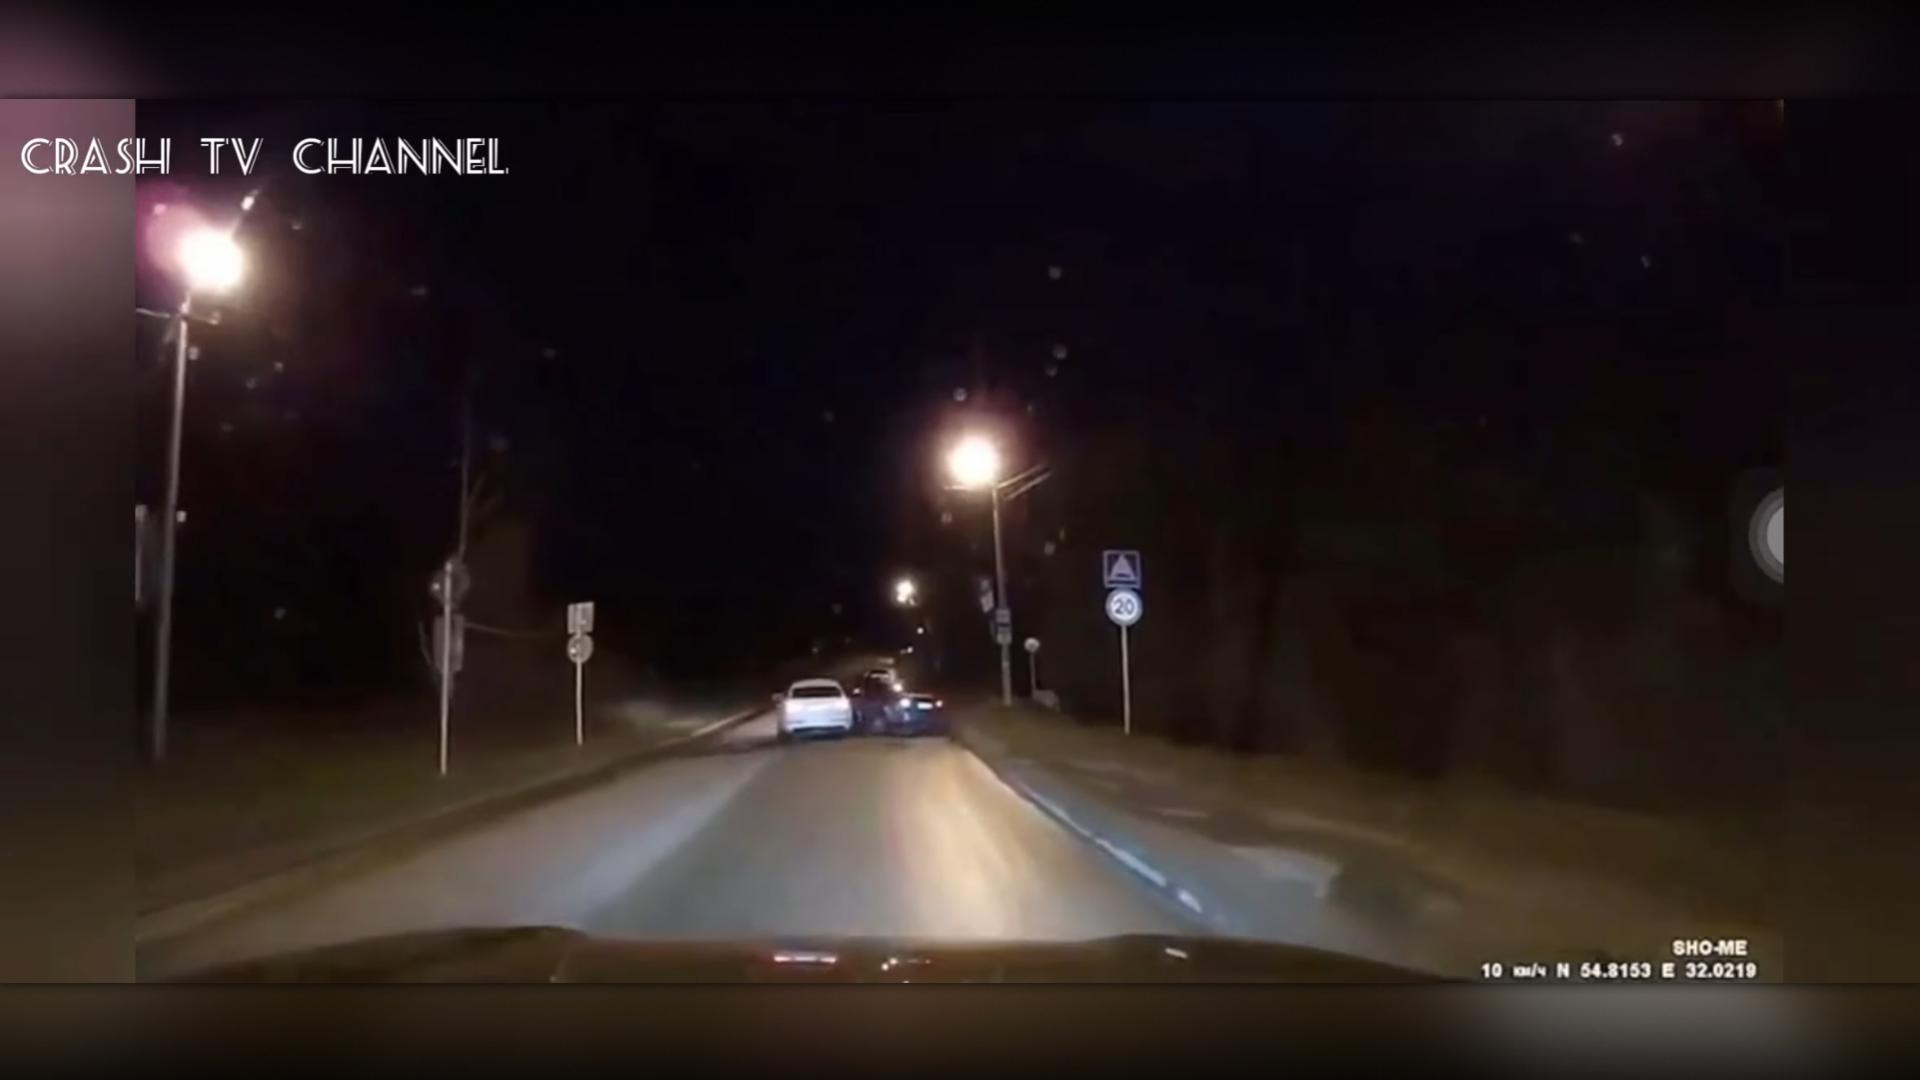accident: (752, 651, 963, 746), (782, 676, 952, 735)
